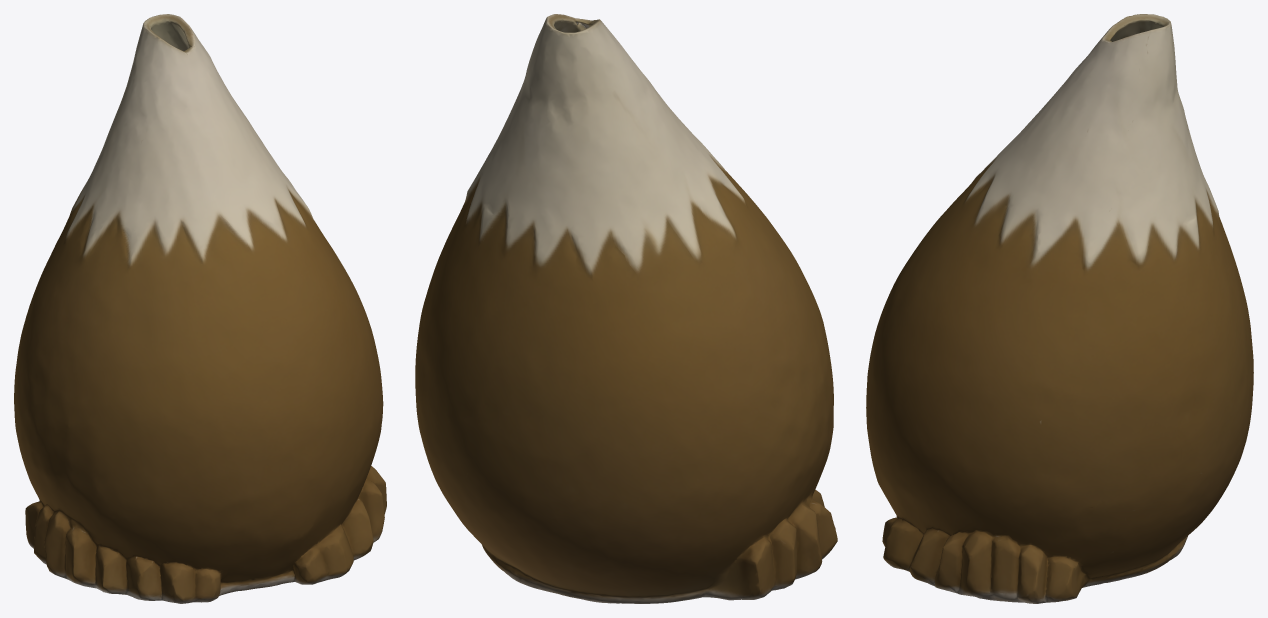
The model's file is tail_ref.glb.
3 views of the same model, side by side, from view 1: azimuth 30°, elevation 25°; view 2: azimuth 150°, elevation 25°; view 3: azimuth 270°, elevation 25° (orthographic). The views are drawn at different scales.
Size of the model in its own units: 0.6859 by 1 by 0.6709.
1 material, 1 textured.
